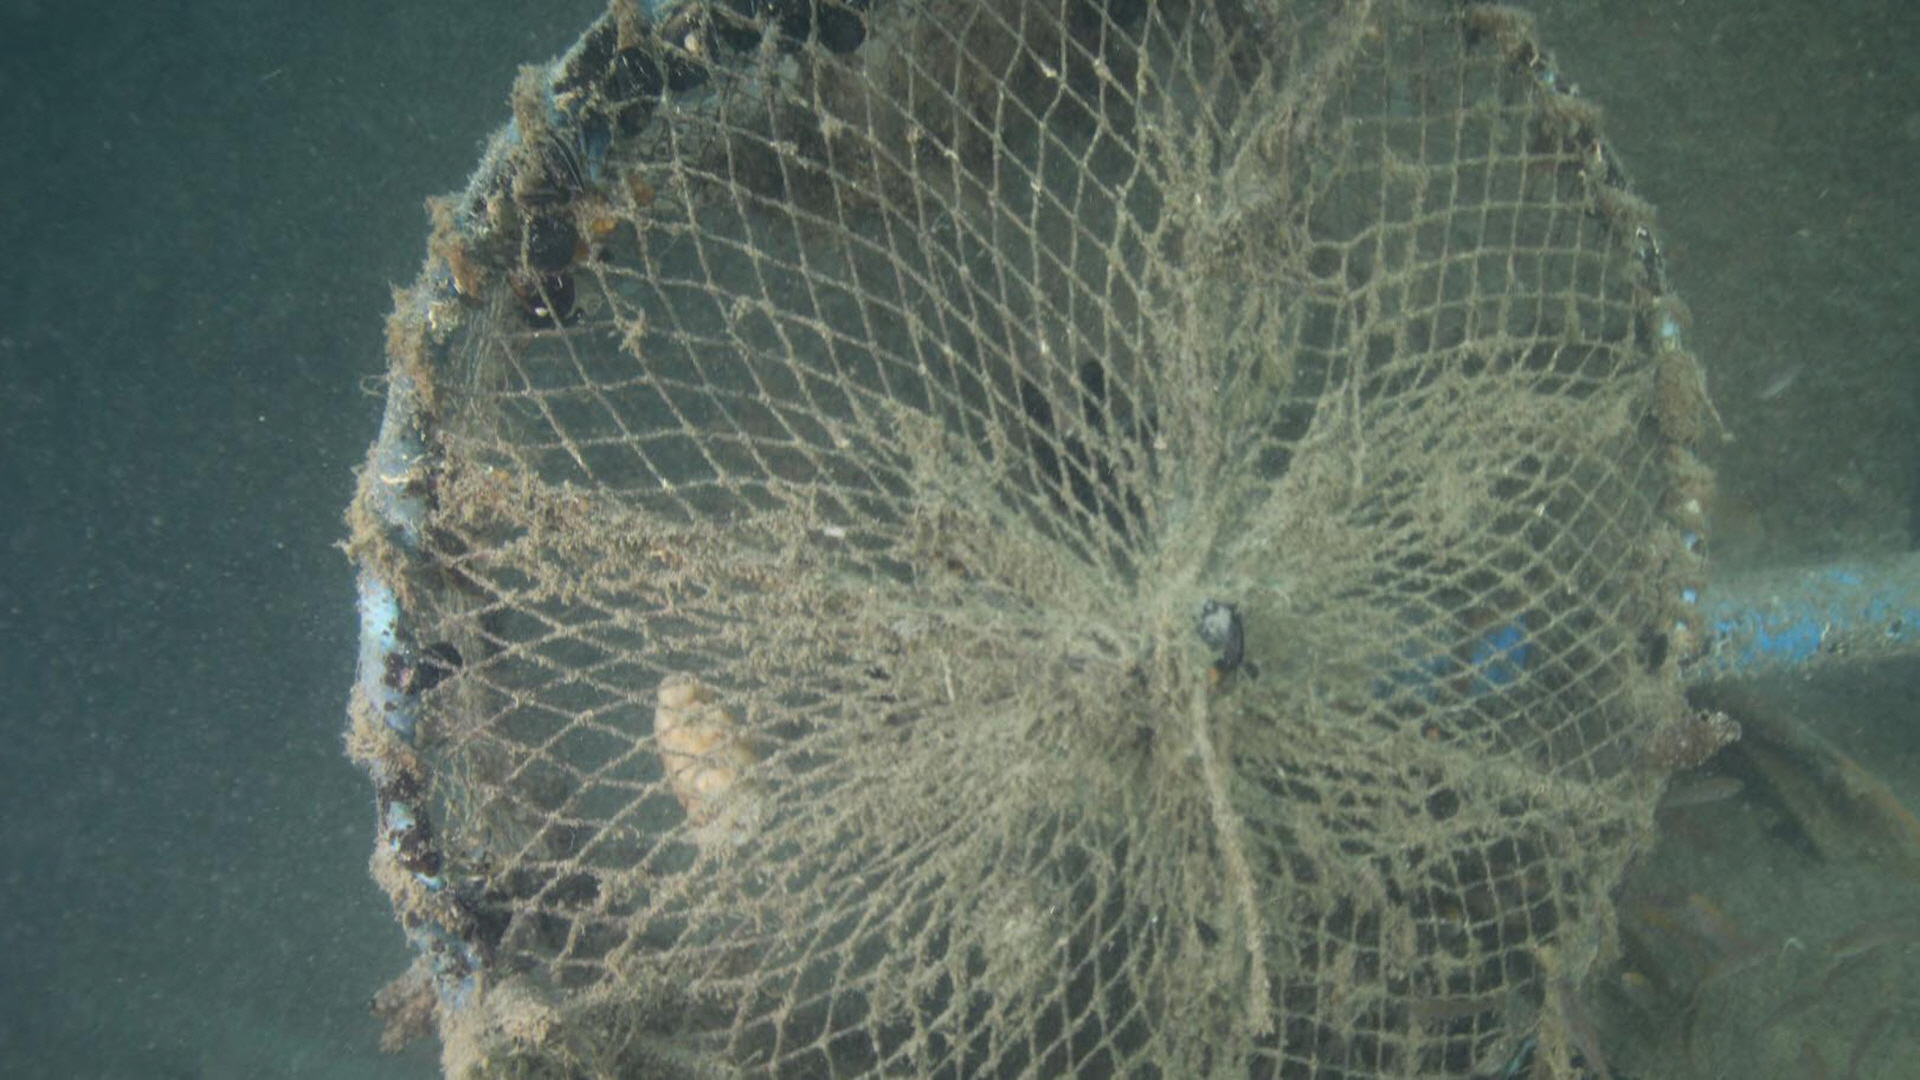circular fish trap: (355, 0, 1702, 1080)
